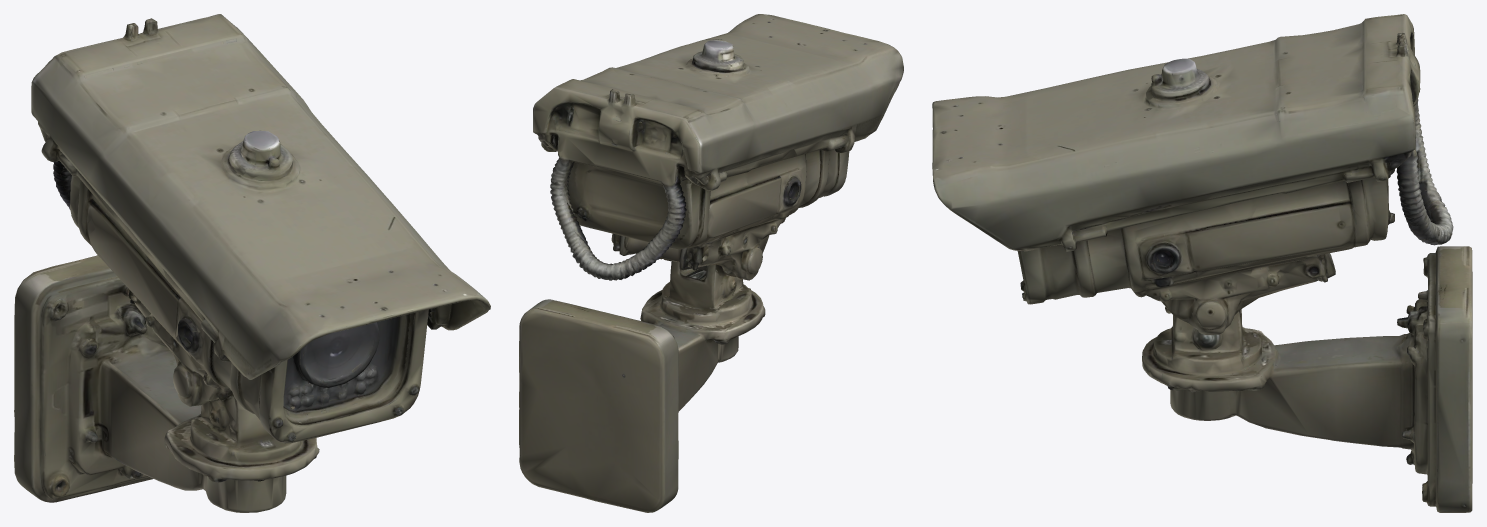
Rendered from scifi_cam.2.glb.
The picture shows the model from 3 angles, left to right: view 1: azimuth 30°, elevation 25°; view 2: azimuth 150°, elevation 25°; view 3: azimuth 270°, elevation 25°; orthographic projection. The views are drawn at different scales.
Parts seen in each view (by area): view 1: Object_4; view 2: Object_4; view 3: Object_4.
Boxes of the visible parts, box(x1,y1,x2,y2) form: Object_4: box(14, 14, 490, 512); Object_4: box(519, 14, 903, 512); Object_4: box(932, 14, 1472, 512).
Bounding box in the file's own units: 0.822 × 1.73 × 1.91.
Materials: 1 (1 with a texture image).
